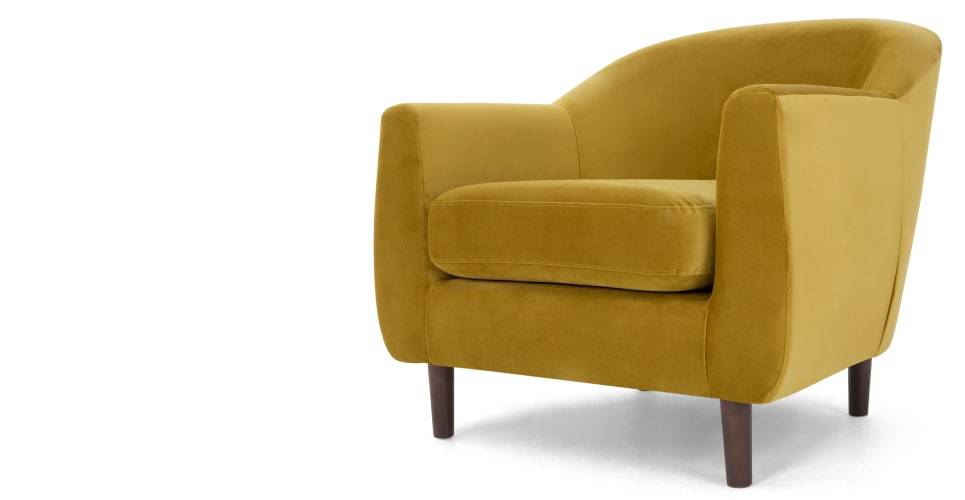chairs: (371, 10, 943, 492)
